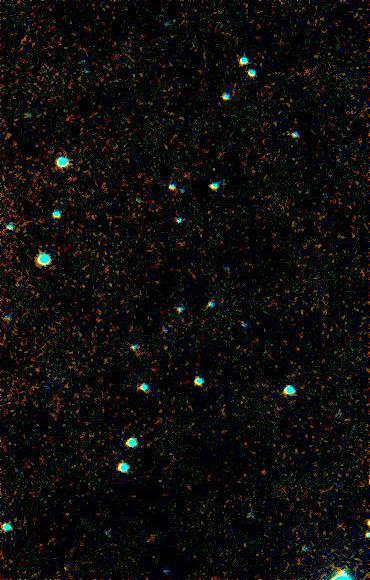star: (325, 560, 355, 580)
